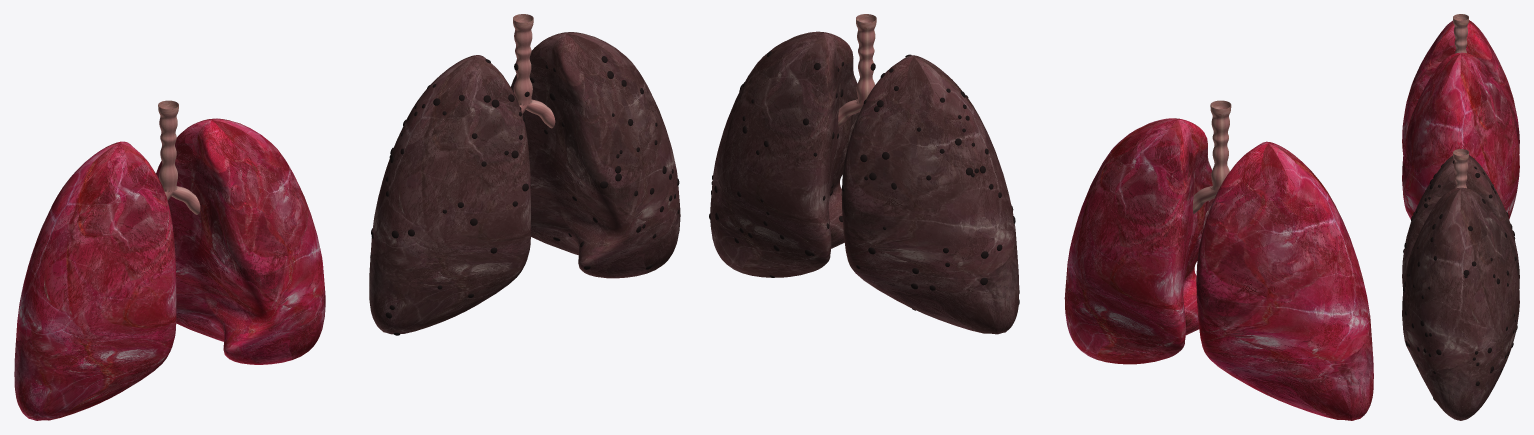
Rendered from lungs-compare-inside.glb.
3 views of the same model, side by side, from view 1: azimuth 30°, elevation 25°; view 2: azimuth 150°, elevation 25°; view 3: azimuth 270°, elevation 25° (orthographic). The views are drawn at different scales.
Visible parts, largest first — view 1: group (×2), lungs-smoker-add_0; view 2: group (×2), lungs-smoker-add_0; view 3: group (×2), lungs-smoker-add_0.
Boxes of the visible parts, x1=… form: group (×2): x1=14, y1=14, x2=680, y2=420; lungs-smoker-add_0: x1=370, y1=56, x2=679, y2=335; group (×2): x1=710, y1=14, x2=1373, y2=420; lungs-smoker-add_0: x1=709, y1=51, x2=1019, y2=310; group (×2): x1=1402, y1=14, x2=1519, y2=420; lungs-smoker-add_0: x1=1403, y1=160, x2=1517, y2=400.
Size of the model in its own units: 0.6284 by 0.26 by 0.1254.
Materials: 4 (3 with a texture image).
